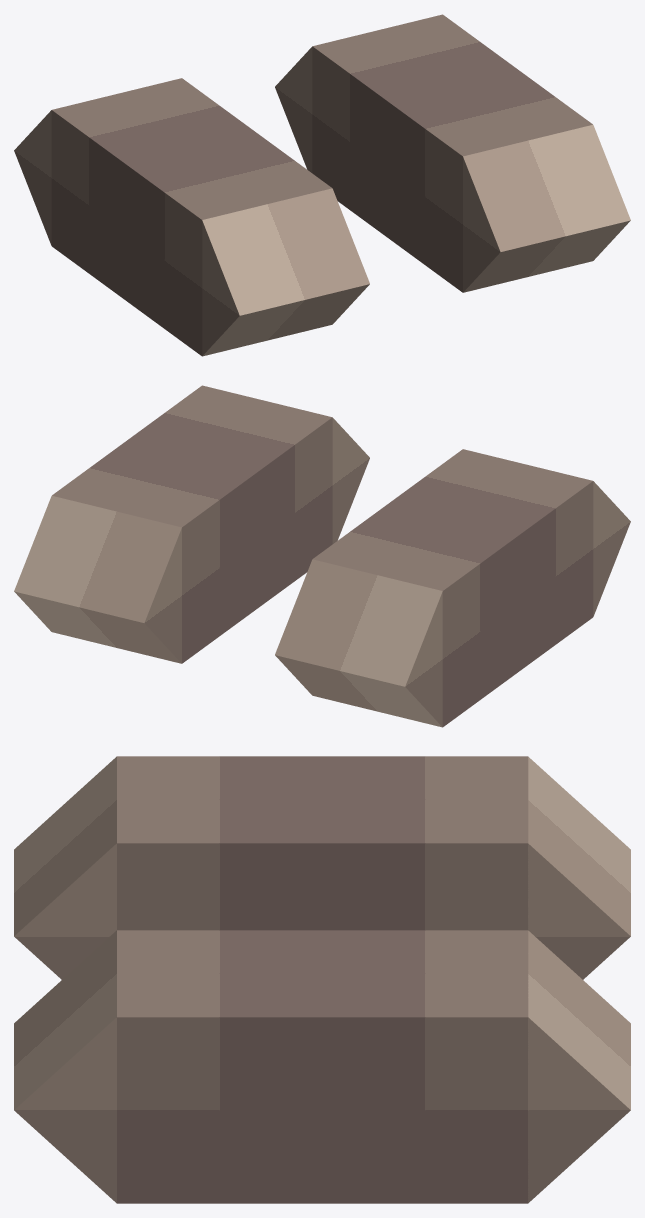
File: pelvis_ender.obj
The picture shows the model from 3 angles, top to bottom: view 1: azimuth 30°, elevation 25°; view 2: azimuth 150°, elevation 25°; view 3: azimuth 270°, elevation 25°; orthographic projection. The views are drawn at different scales.
Visible parts, largest first — view 1: LEG_BONE_ENDER_PELVIS_Cube.434; view 2: LEG_BONE_ENDER_PELVIS_Cube.434; view 3: LEG_BONE_ENDER_PELVIS_Cube.434.
Boxes of the visible parts, left/top/right/bottom form: LEG_BONE_ENDER_PELVIS_Cube.434: left=14, top=14, right=630, bottom=356; LEG_BONE_ENDER_PELVIS_Cube.434: left=14, top=385, right=630, bottom=727; LEG_BONE_ENDER_PELVIS_Cube.434: left=14, top=756, right=630, bottom=1203.
Size of the model in its own units: 0.375 by 0.125 by 0.375.
